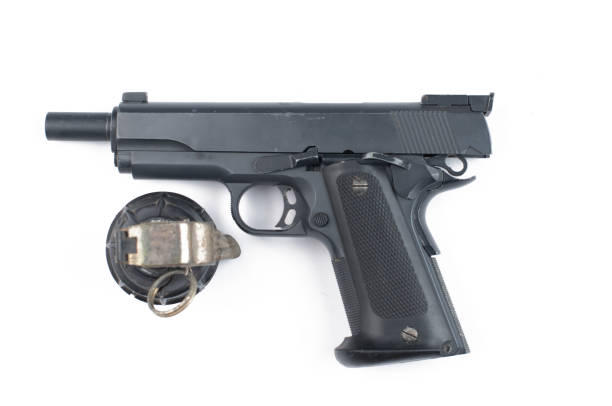e1: (104, 193, 239, 323)
